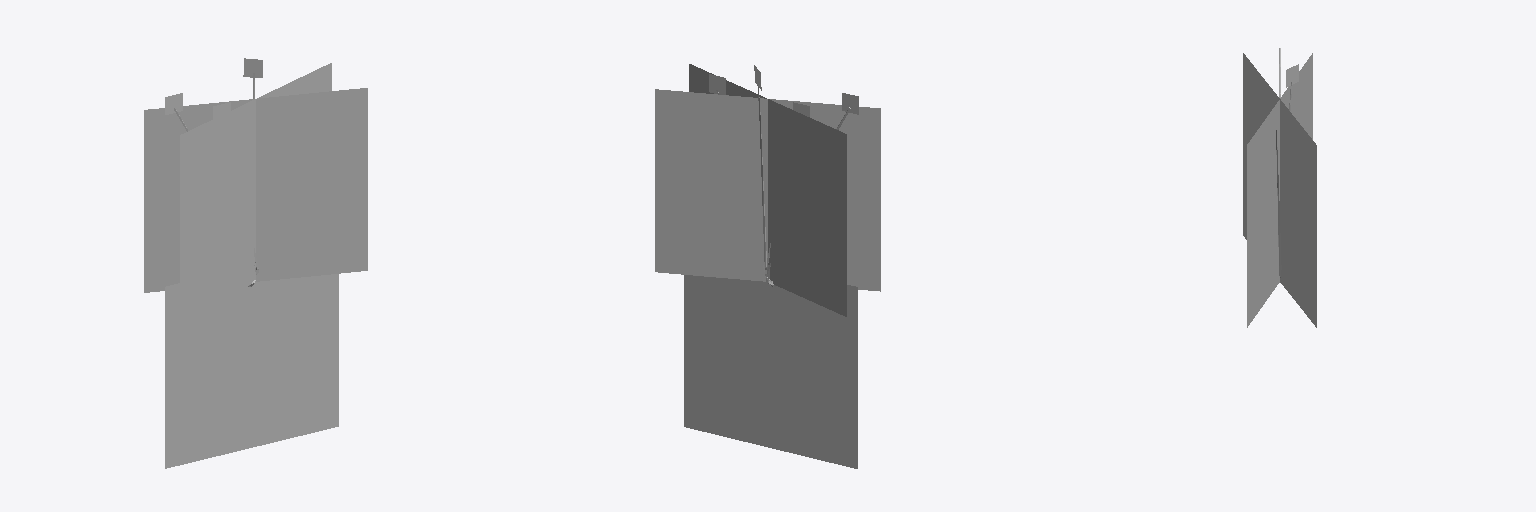
The model's file is MODEL_ranunculusGrownBuds_G4_1.obj.
3 renders of one model, left to right at view 1: azimuth 30°, elevation 25°; view 2: azimuth 150°, elevation 25°; view 3: azimuth 270°, elevation 25°, orthographic.
Parts seen in each view (by area): view 1: geo_plantBulb_low geo_roots_plane, geo_plantBulb_low geo_roots_plane3, geo_plantBulb_low geo_roots_plane2; view 2: geo_plantBulb_low geo_roots_plane, geo_plantBulb_low geo_roots_plane2, geo_plantBulb_low geo_roots_plane3; view 3: geo_plantBulb_low geo_roots_plane2, geo_plantBulb_low geo_roots_plane3.
Part boxes in pixels (bbox=[...]): geo_plantBulb_low geo_roots_plane: bbox=[165, 274, 338, 468]; geo_plantBulb_low geo_roots_plane3: bbox=[144, 88, 367, 292]; geo_plantBulb_low geo_roots_plane2: bbox=[180, 63, 331, 317]; geo_plantBulb_low geo_roots_plane: bbox=[684, 265, 857, 468]; geo_plantBulb_low geo_roots_plane2: bbox=[655, 89, 880, 291]; geo_plantBulb_low geo_roots_plane3: bbox=[689, 64, 846, 316]; geo_plantBulb_low geo_roots_plane2: bbox=[1243, 53, 1316, 327]; geo_plantBulb_low geo_roots_plane3: bbox=[1247, 53, 1312, 327].
Bounding box in the file's own units: 22.62 × 43.17 × 7.52.